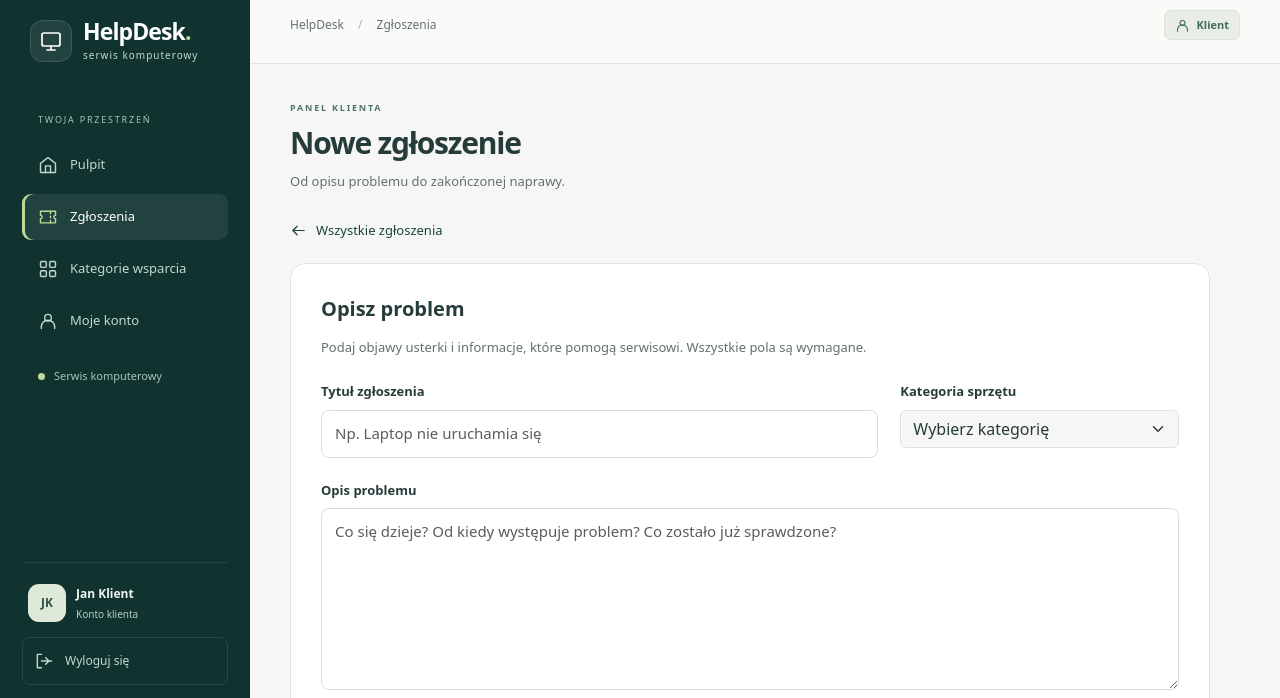
Test: Awaria zapisu nie usuwa wpisanego opisu; formularz można wysłać ponownie
Step 1. Type "Laptop nie uruchamia się" into the field labelled "Tytuł zgłoszenia" → (600, 434), box [321,410,878,458]
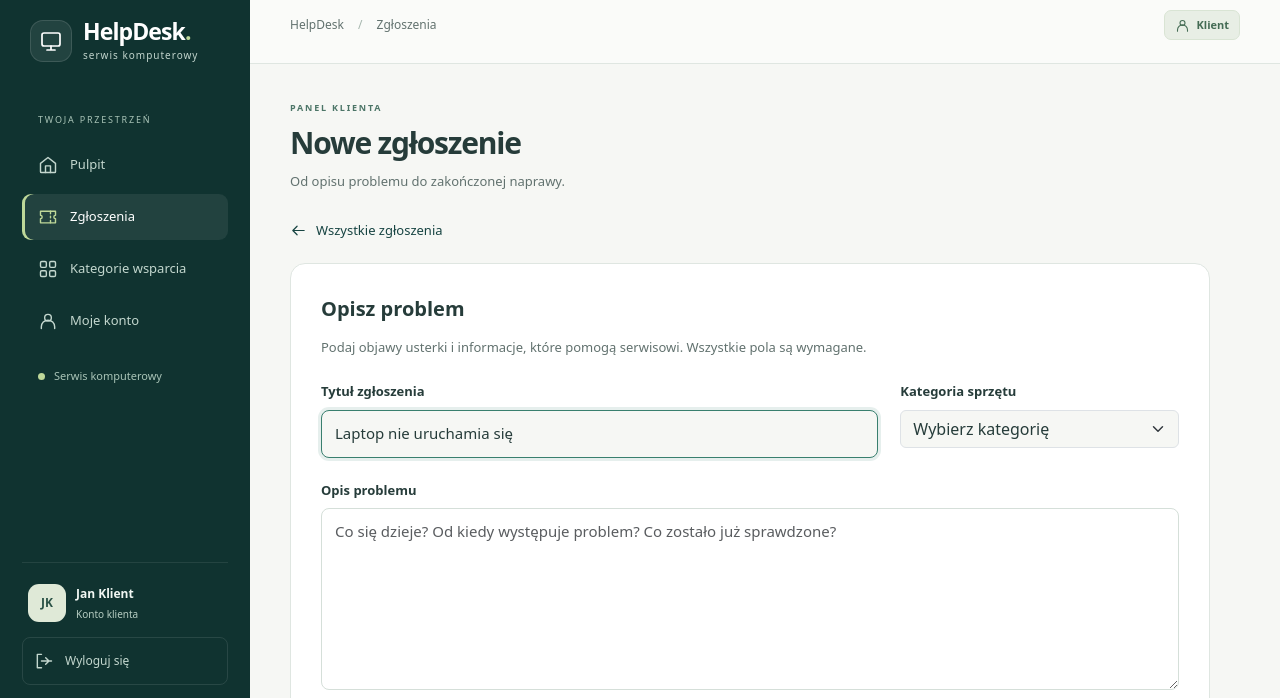
Step 2. Select "Laptop" in the dropdown labelled "Kategoria sprzętu" → (1040, 429), box [900,410,1179,448]
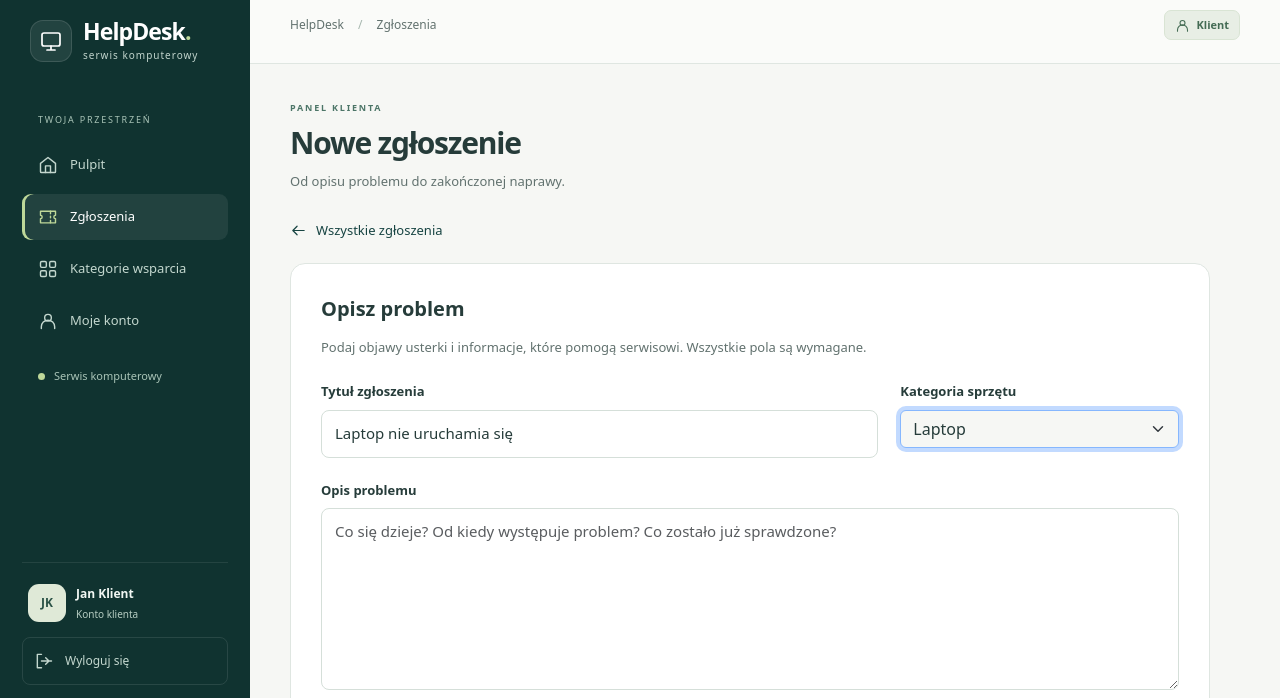
Step 3. Type "Po podłączeniu zasilacza ekran pozostaje czarny." into the text box labelled "Opis problemu" → (750, 599), box [321,508,1179,690]
(page scrolled)
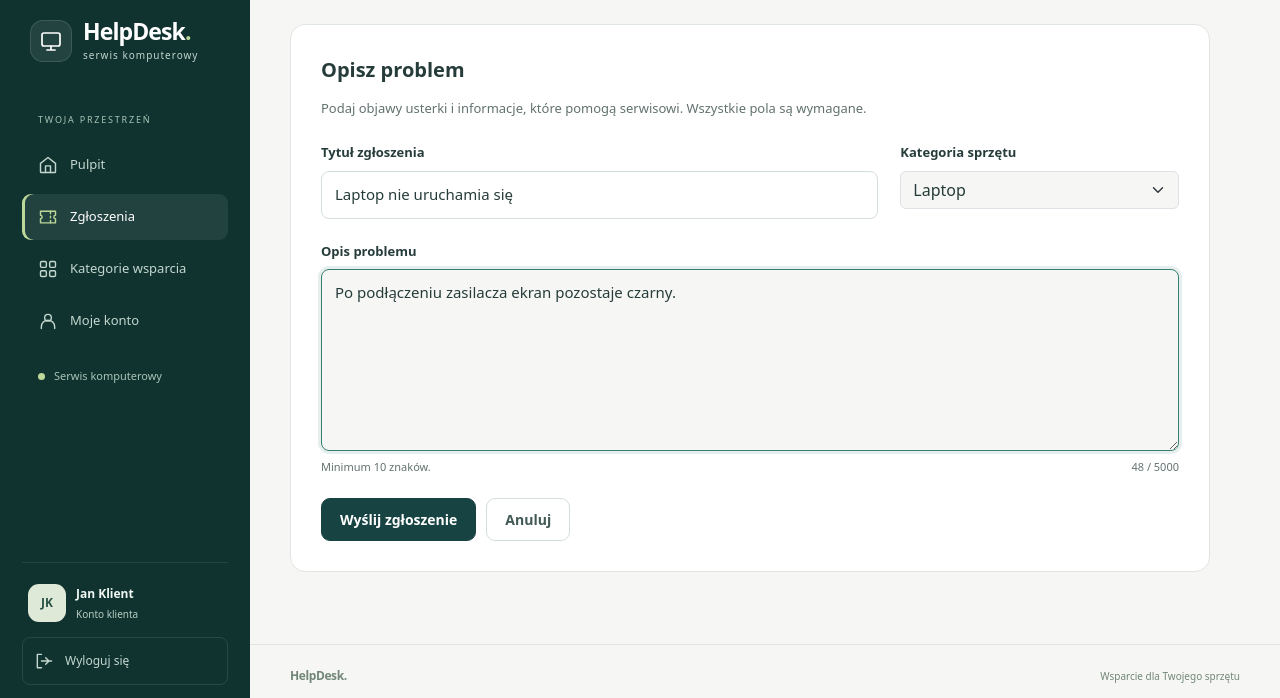
Step 4. Click the button "Wyślij zgłoszenie" → (399, 520), box [321,498,476,541]
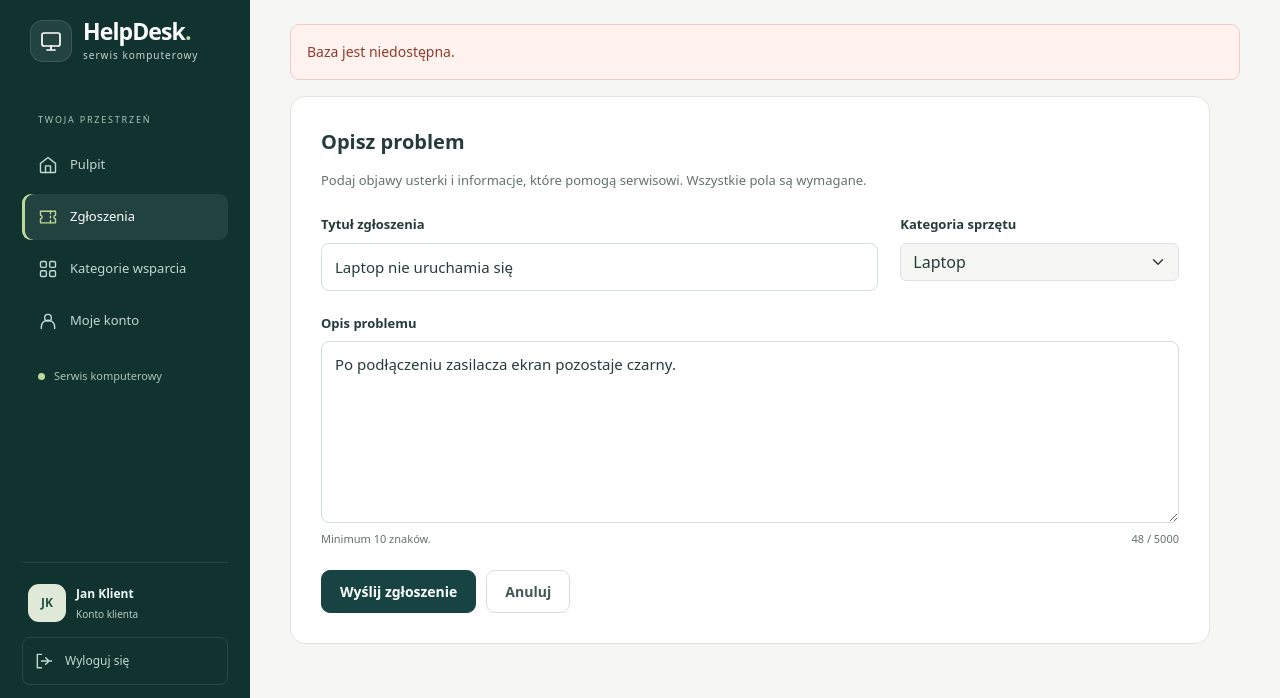
Expected: the button "Wyślij zgłoszenie" is enabled, [321,570,476,614]
Expected: the message reads "Baza jest niedostępna.", [307,42,455,61]
